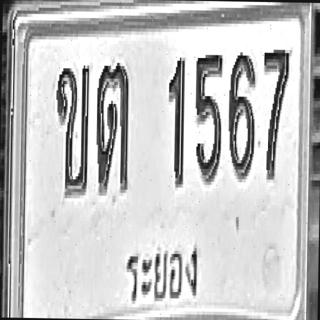A02: (54, 62, 89, 195)
A21: (95, 59, 130, 193)
N01: (166, 54, 185, 188)
N05: (193, 51, 223, 182)
N06: (227, 49, 256, 179)
N07: (261, 44, 289, 178)
P53: (120, 238, 201, 302)
